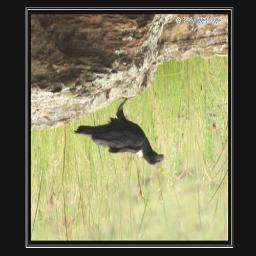Crow: (73, 97, 166, 166)
